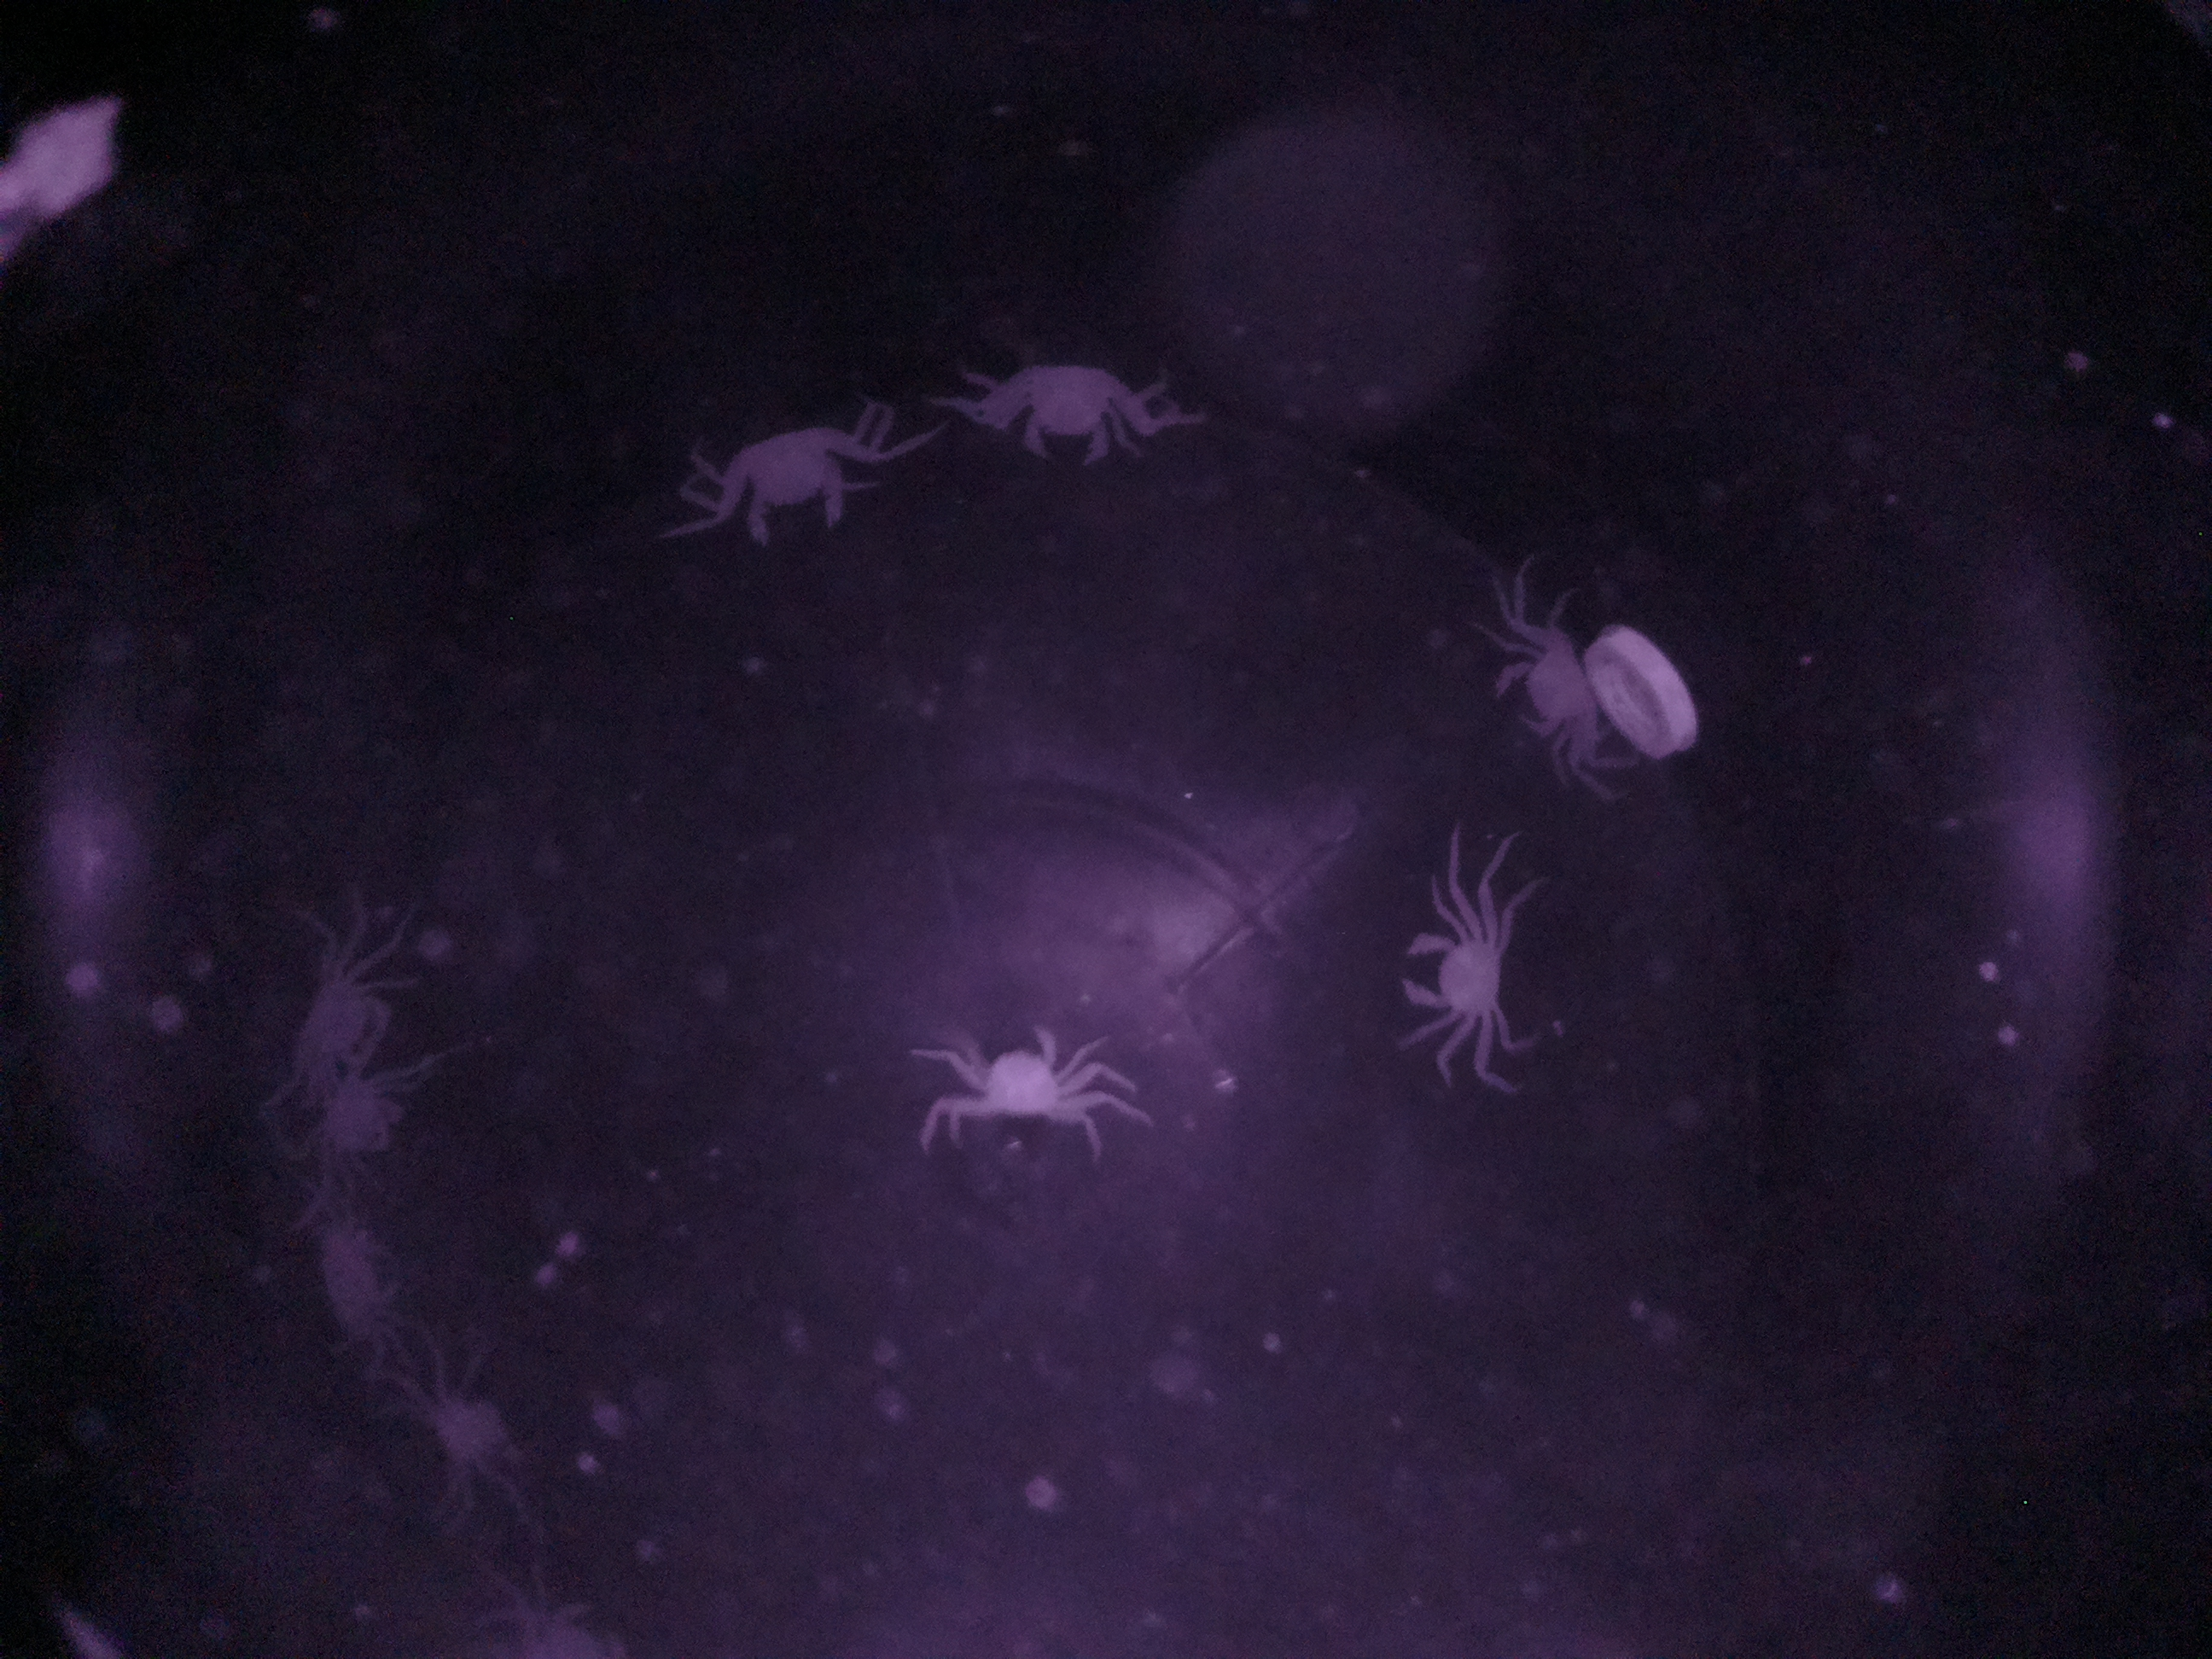Crab: (1383, 873, 1547, 1073), (698, 394, 876, 577), (909, 988, 1106, 1150), (974, 328, 1163, 476), (1475, 608, 1634, 772)
